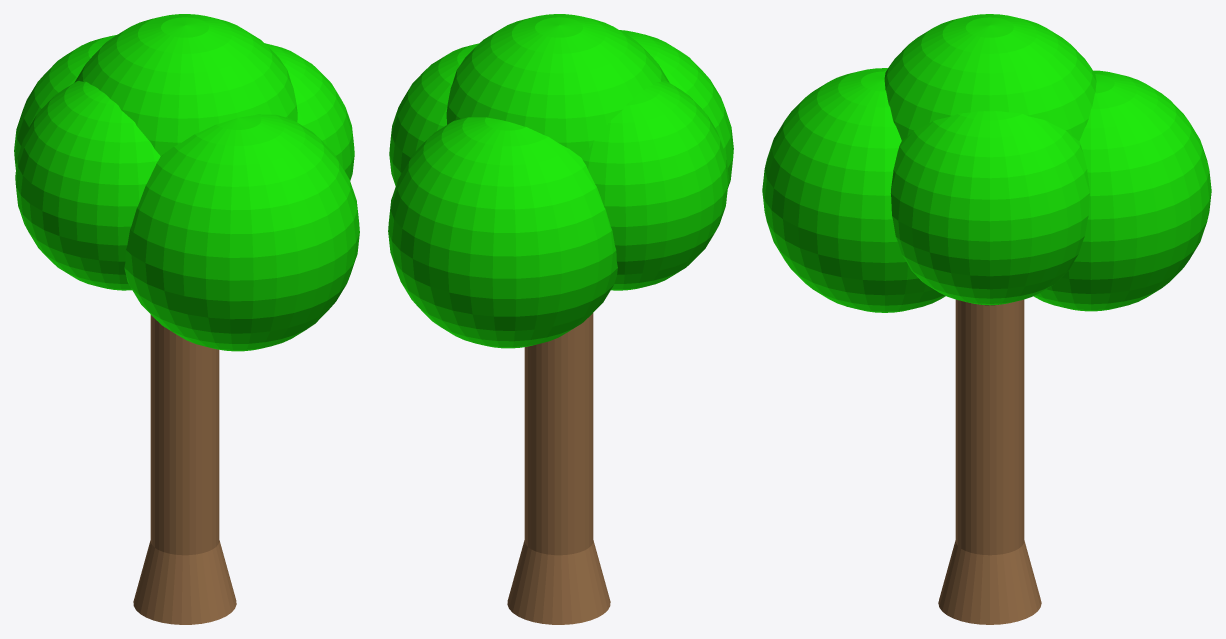
File: Tree.fbx
The picture shows the model from 3 angles, left to right: view 1: azimuth 30°, elevation 25°; view 2: azimuth 150°, elevation 25°; view 3: azimuth 270°, elevation 25°; orthographic projection.
Parts seen in each view (by area): view 1: Cylinder; view 2: Cylinder; view 3: Cylinder.
Part boxes in pixels (bbox=[...]): Cylinder: bbox=[14, 14, 359, 624]; Cylinder: bbox=[388, 14, 733, 624]; Cylinder: bbox=[762, 14, 1211, 624].
Bounding box in the file's own units: 1040 × 1850 × 1304.
